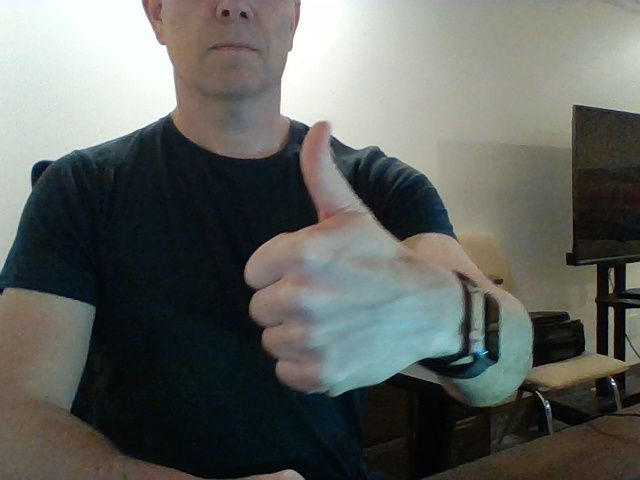ThumbsUp: (244, 120, 422, 397)
